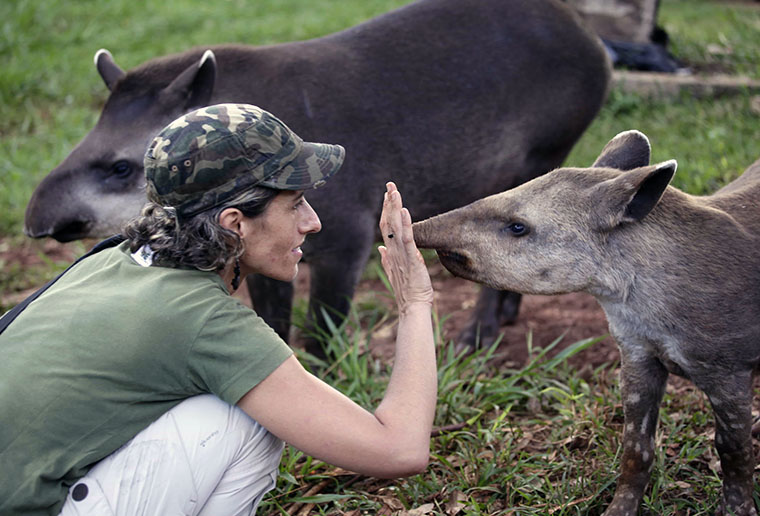Anta: (411, 122, 753, 491), (17, 5, 583, 224)
